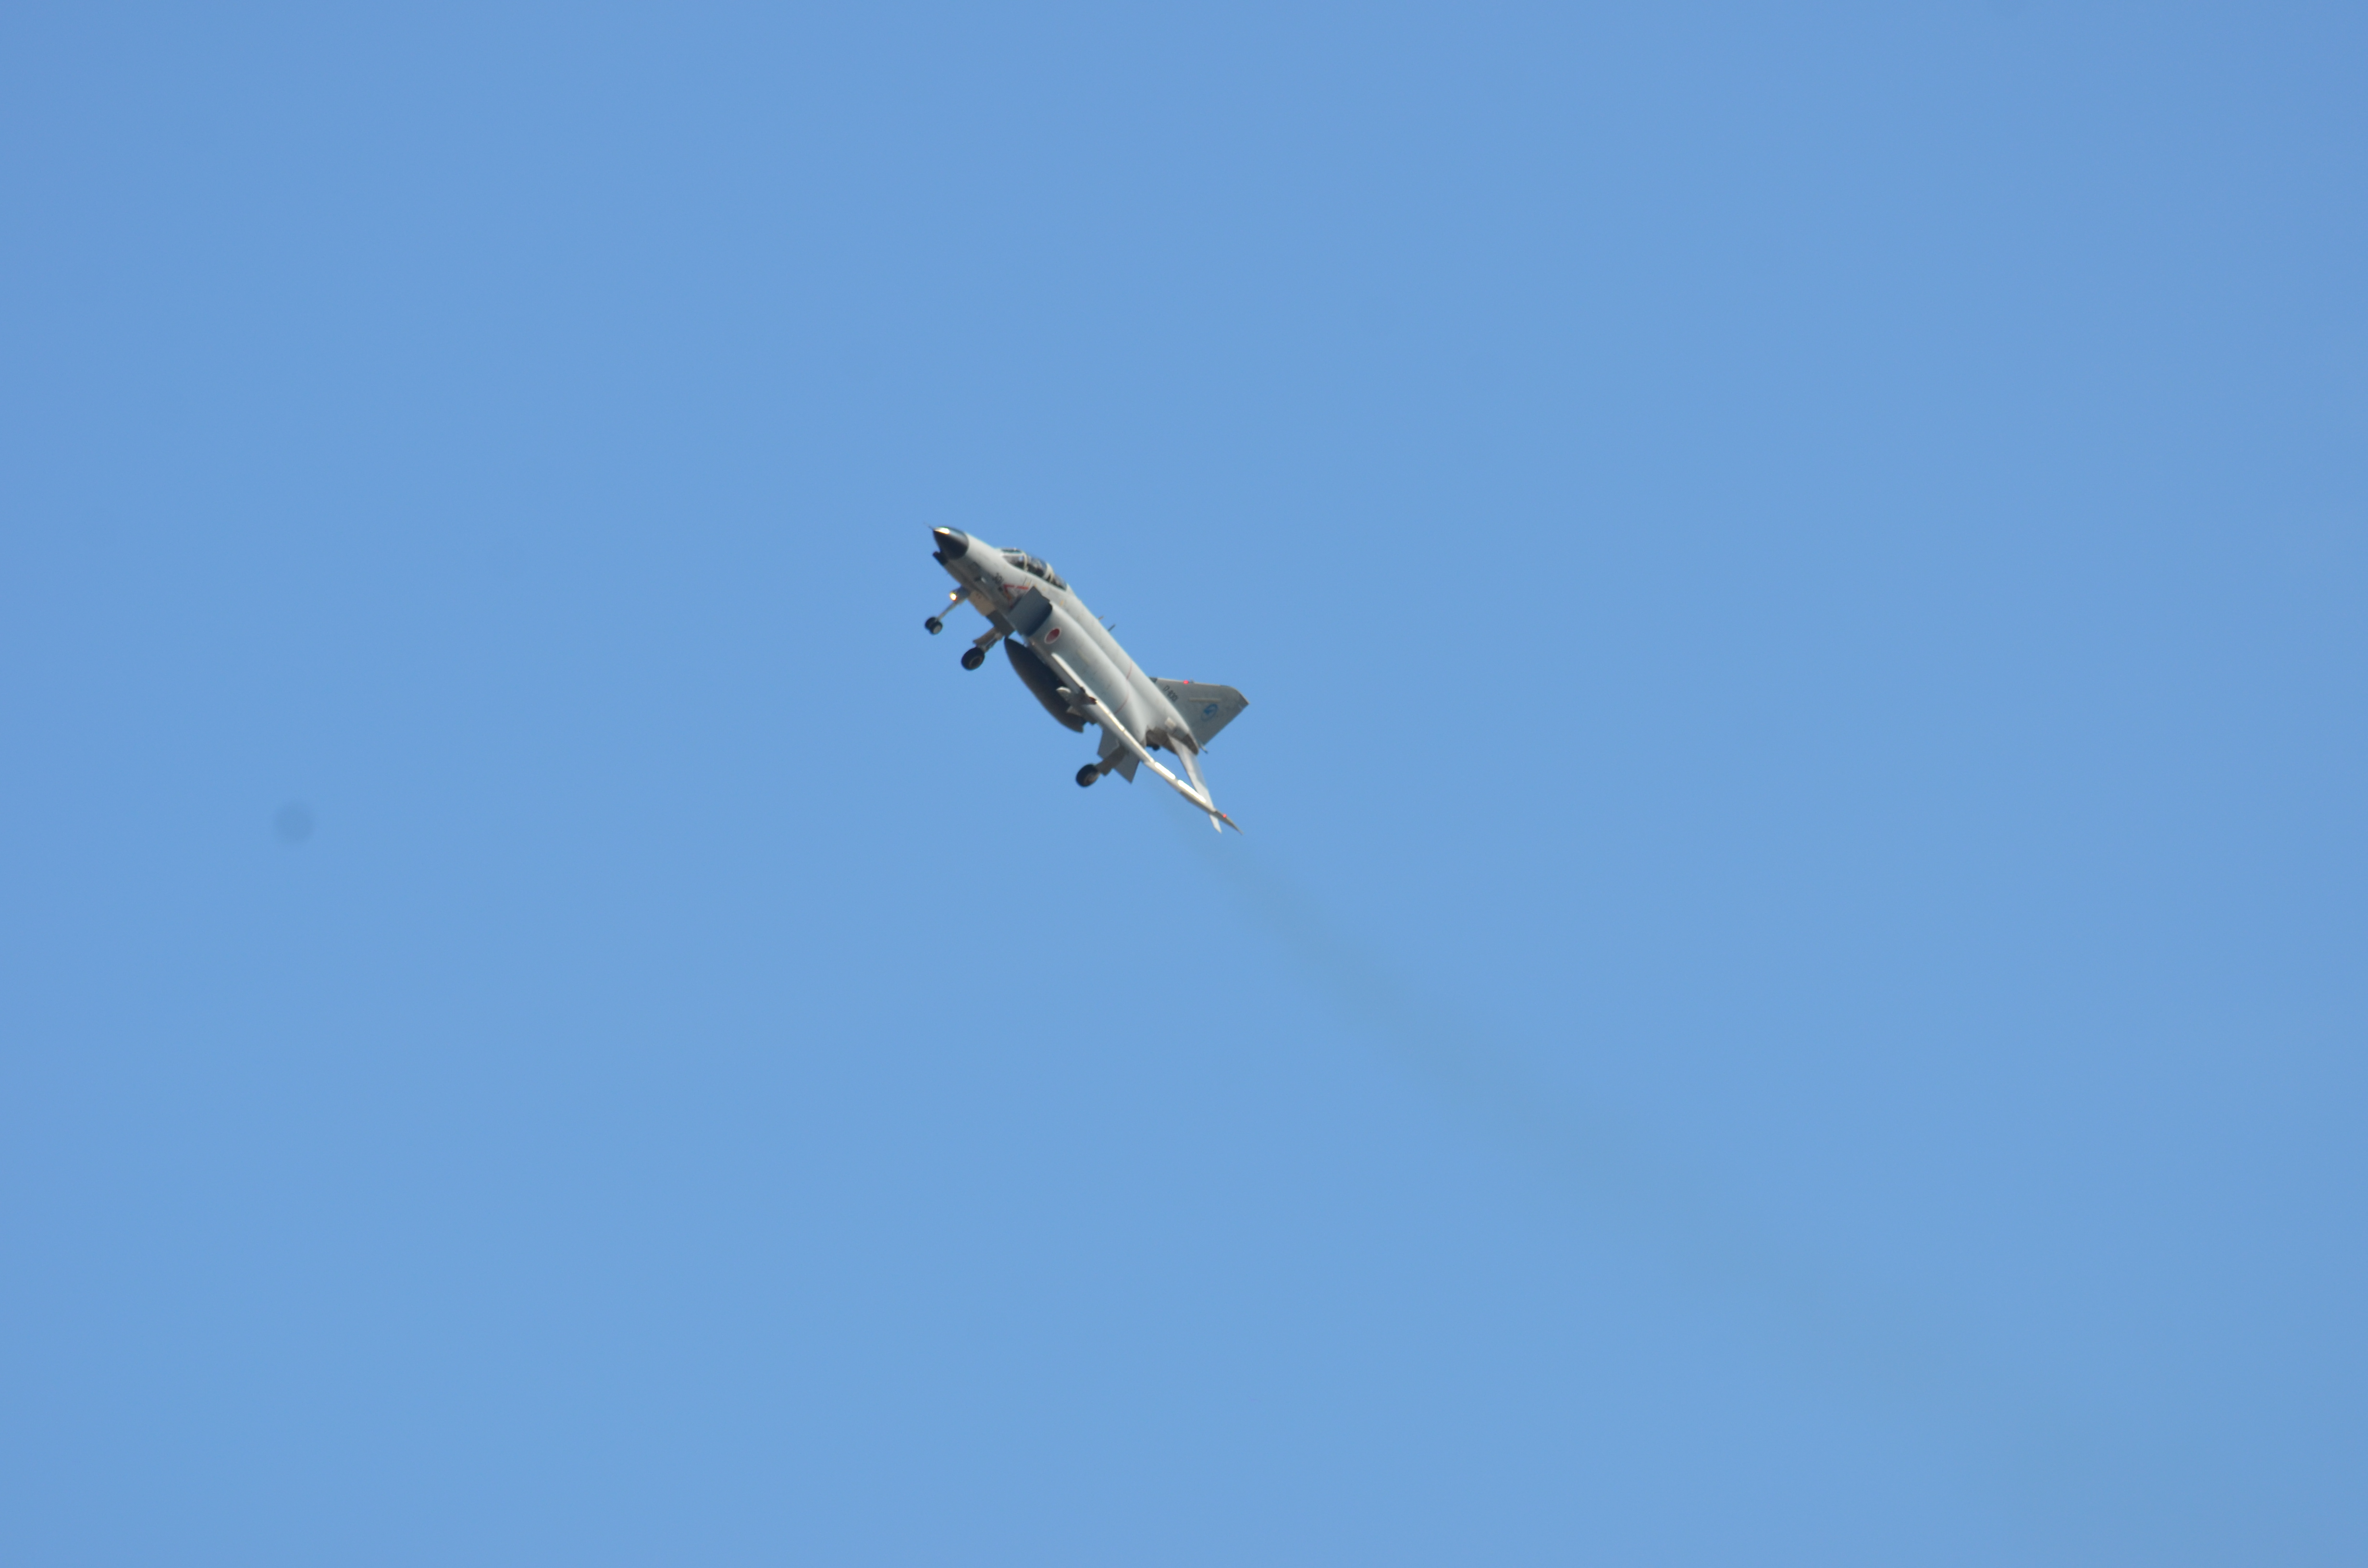F4: (921, 520, 1250, 836)
